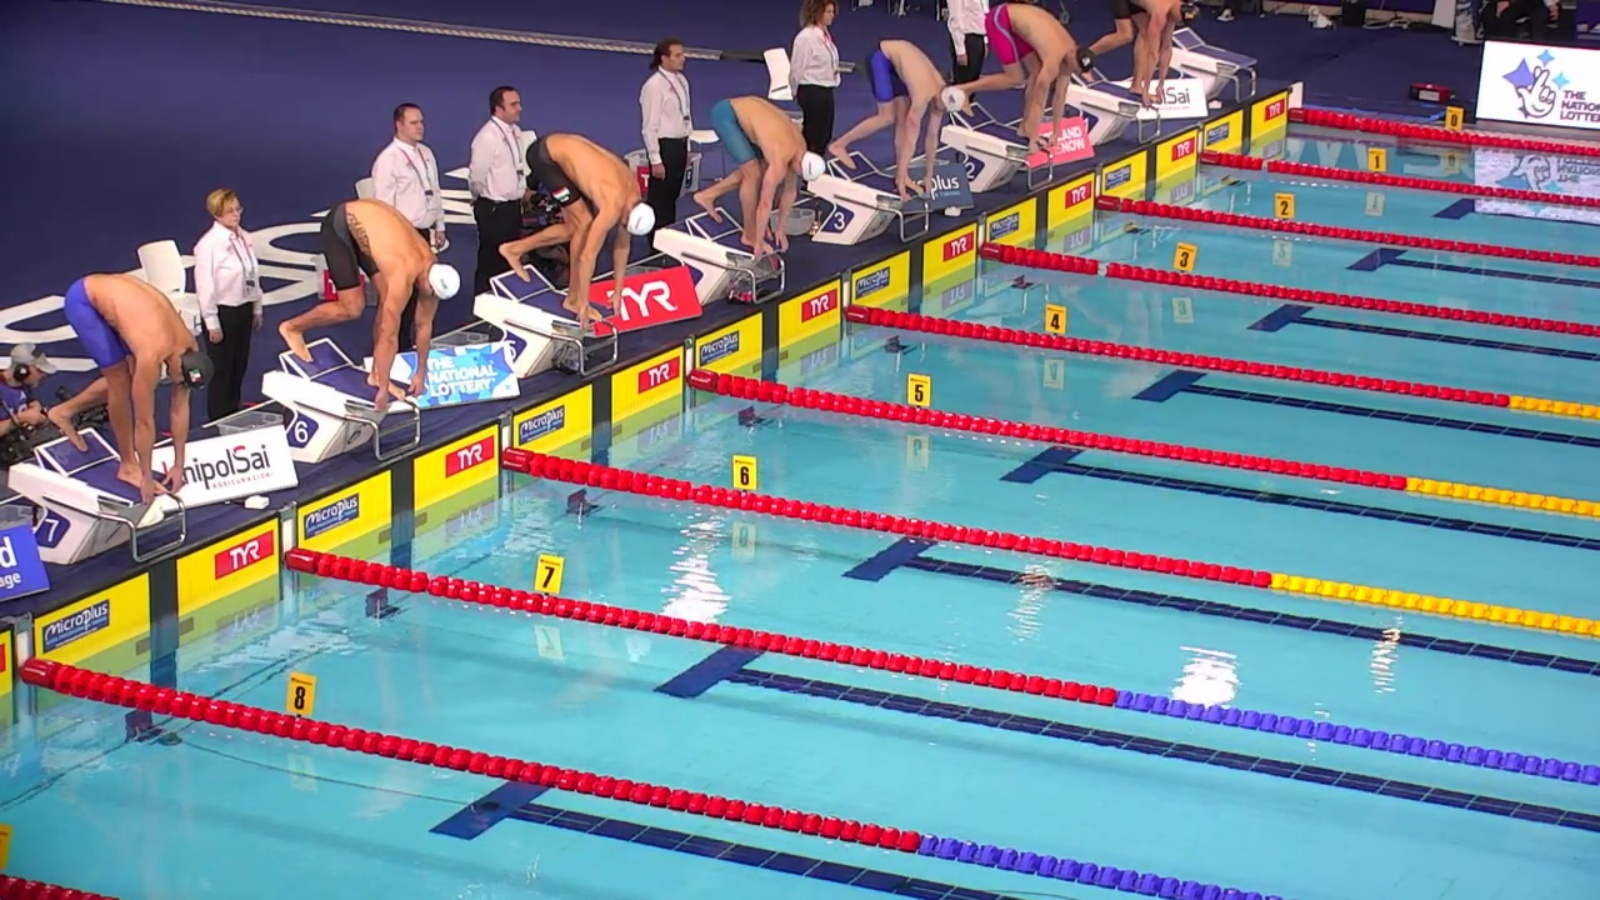swimmerw: (51, 268, 221, 495), (278, 196, 463, 395), (493, 135, 658, 327), (825, 40, 974, 199), (689, 93, 825, 259), (951, 4, 1095, 141), (1087, 5, 1199, 103)
